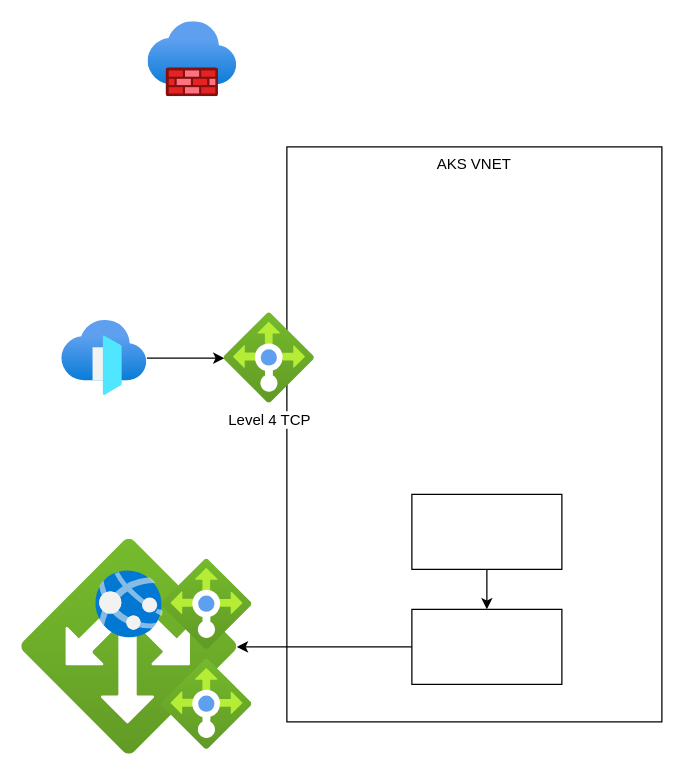
The diagram is 684 pixels wide and 775 high, and some of its shapes have lost their labels. Here are the shapes that lost their labels. From the top down, the centre of each, then its label:
the point at 486,531: Ingres
the point at 486,646: AGIC
